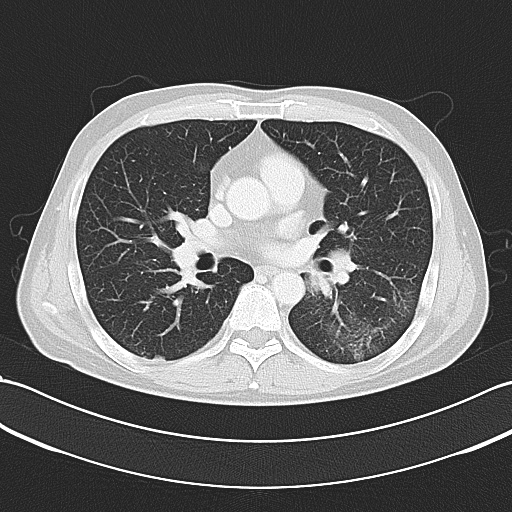Copy of cancer: (308, 233, 356, 283)
cancer: (308, 247, 356, 297)
